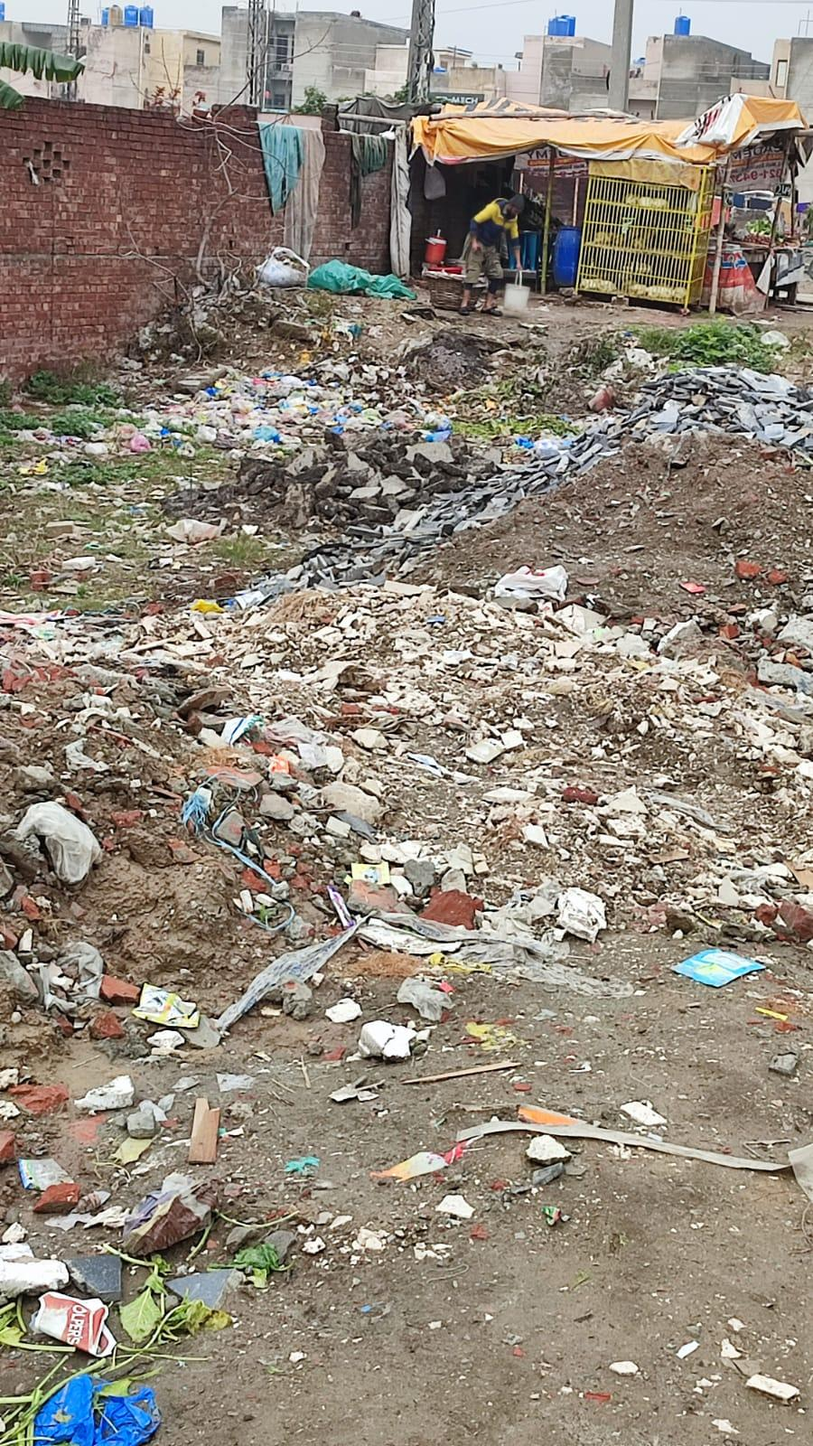garbage: (185, 570, 810, 960), (100, 326, 796, 557)
